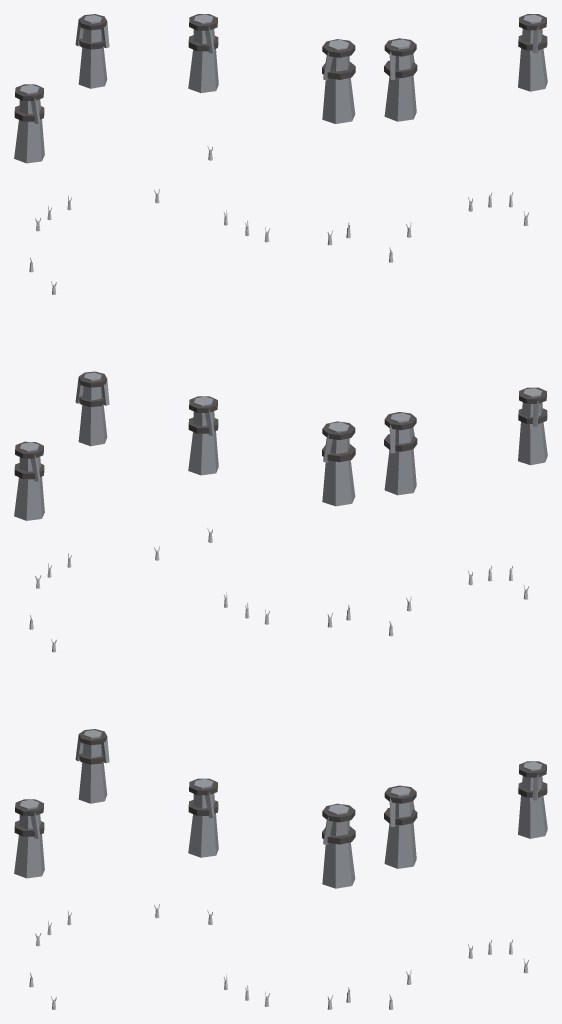
The model's file is Circle9Folk2.obj.
3 views of the same model, side by side, from view 1: azimuth 30°, elevation 25°; view 2: azimuth 150°, elevation 25°; view 3: azimuth 330°, elevation 25° (orthographic). The views are drawn at different scales.
Parts seen in each view (by area): view 1: Circle9Folk2; view 2: Circle9Folk2; view 3: Circle9Folk2.
Boxes of the visible parts, left/top/right/bottom form: Circle9Folk2: left=14, top=14, right=159, bottom=1009; Circle9Folk2: left=188, top=14, right=355, bottom=1009; Circle9Folk2: left=384, top=14, right=547, bottom=1009.
Bounding box in the file's own units: 30.9 × 196 × 21.77.
1 material, 1 textured.
